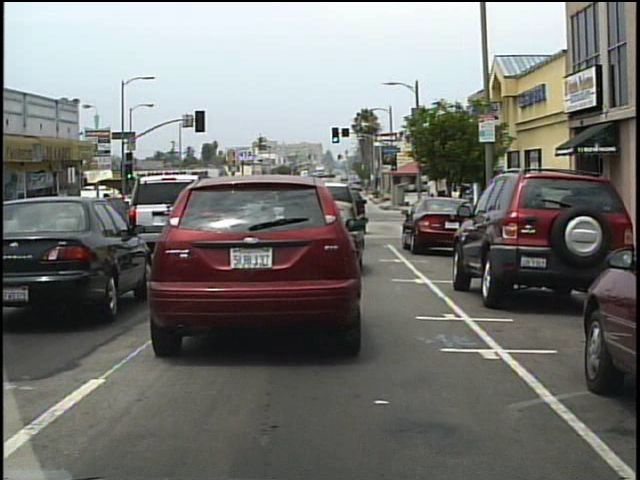person: (461, 188, 476, 220), (446, 191, 458, 229), (437, 192, 448, 229)
